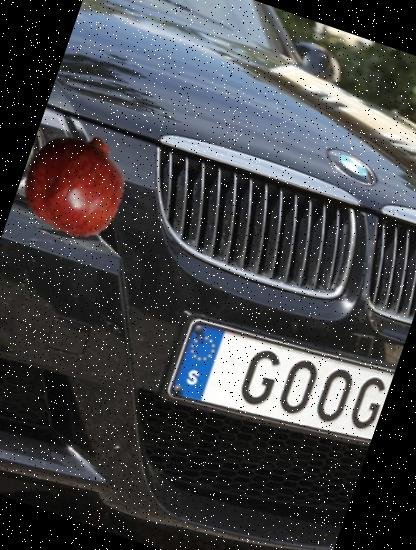Pomegranate: (11, 118, 141, 248)
